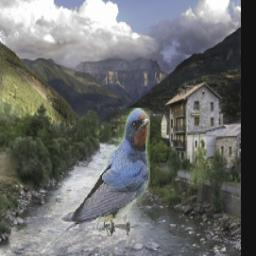Swallow: (41, 109, 149, 256)
